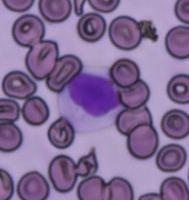M: (56, 68, 122, 132)
